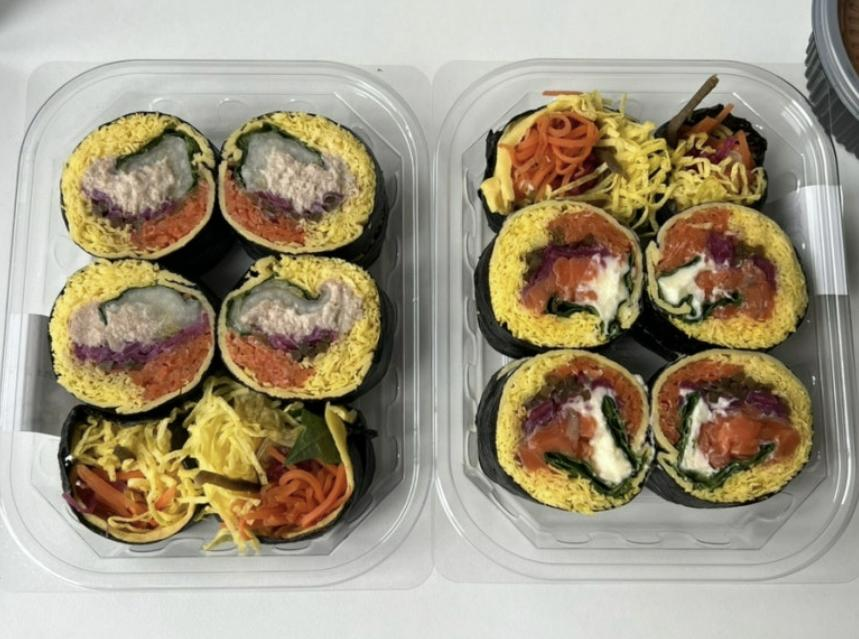Lunch Box: (0, 60, 436, 590), (430, 56, 858, 588), (805, 0, 858, 157)
